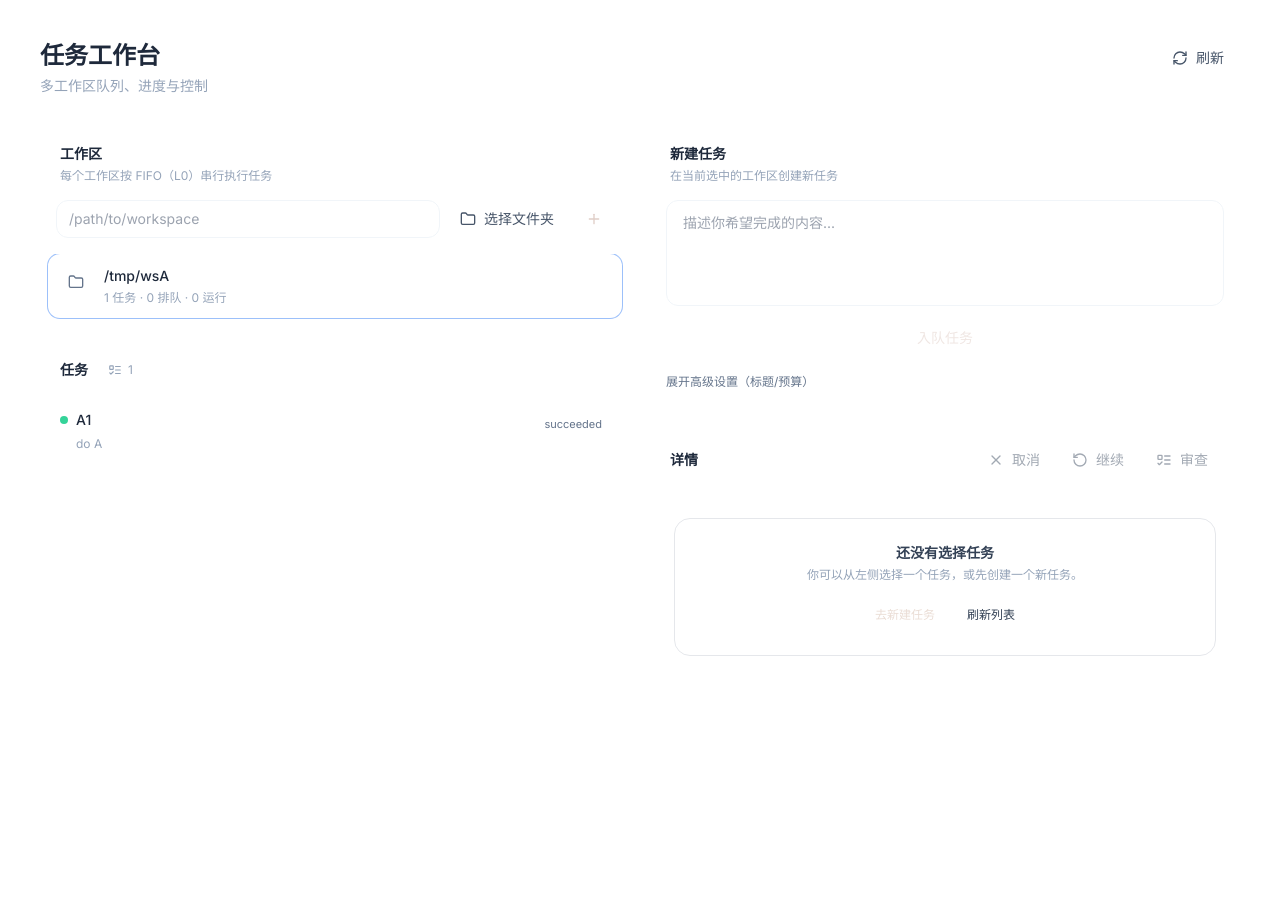
shows worktree evidence in advanced tab when present
This screenshot has width=1280, height=900.
Click the button with test id "workbench-task-item" at (573, 424), box [48,398,622,464]
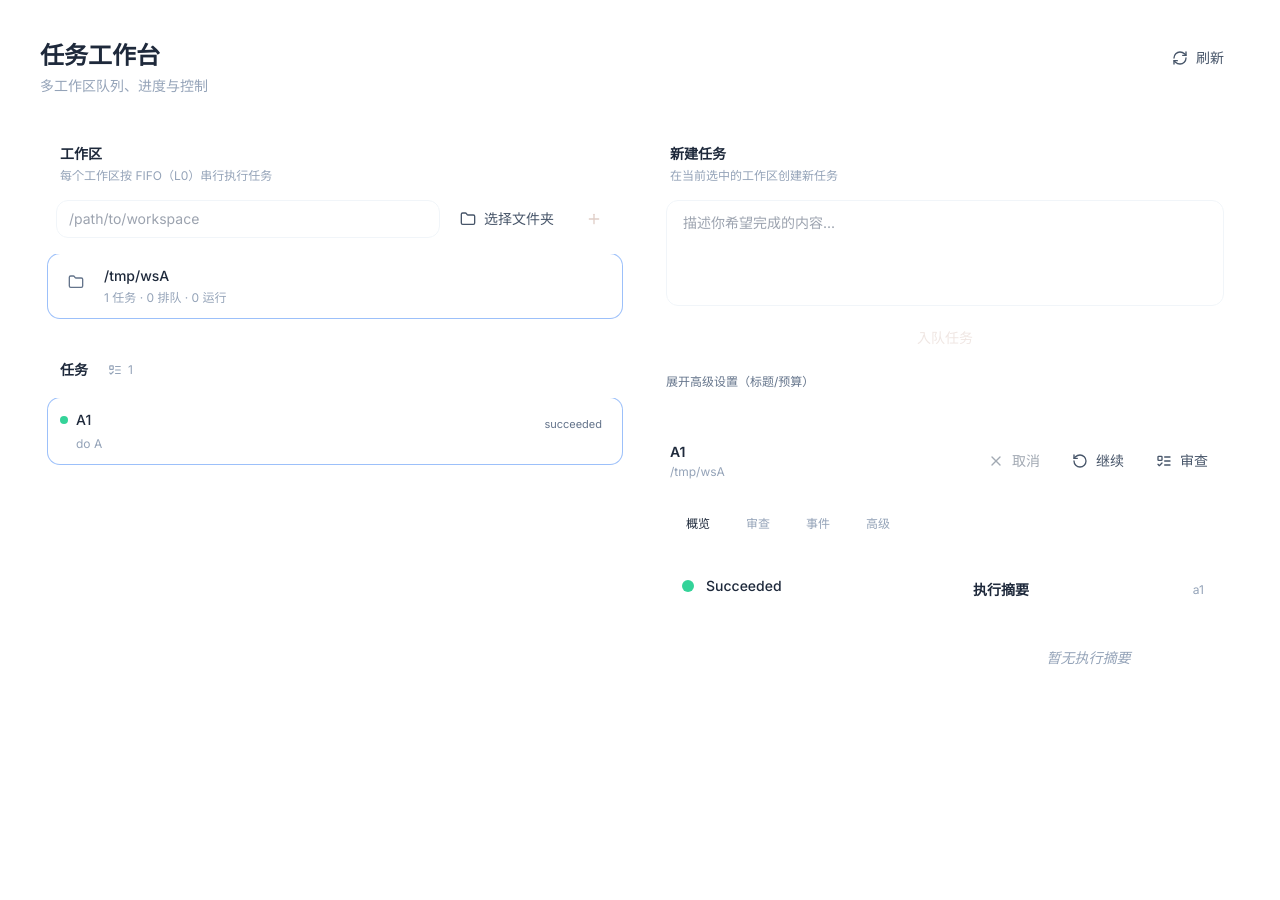
Click the button with test id "workbench-details-advanced-toggle" at (878, 524), box [850,508,906,540]
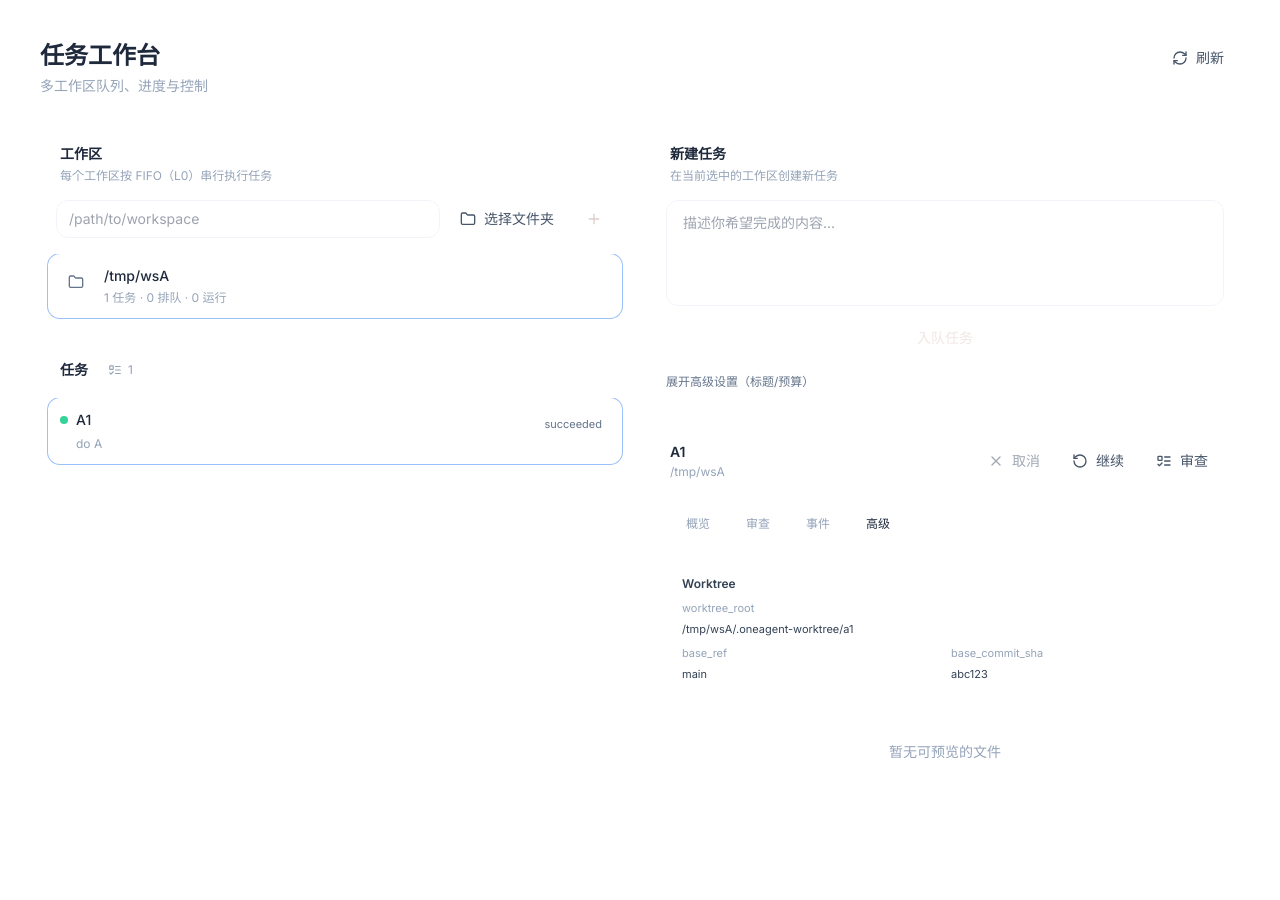
Now the element with test id "workbench-worktree-evidence" is shown, box [682,576,1043,680]
Now the text with test id "workbench-worktree-root" reads "/tmp/wsA/.oneagent-worktree/a1", box [682,622,853,636]
Now the text with test id "workbench-base-ref" reads "main", box [682,666,707,680]
